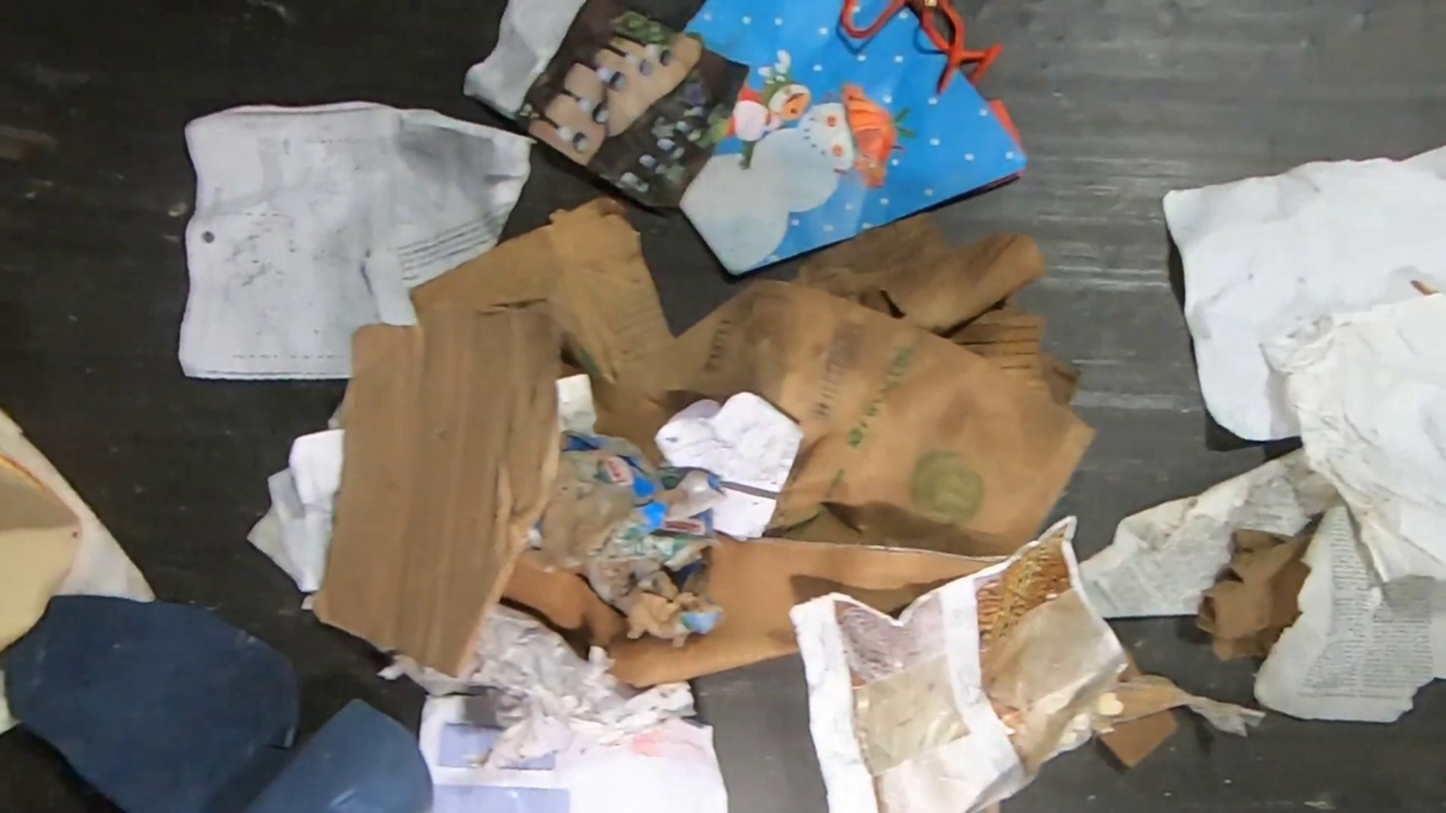cardboard: (410, 196, 1099, 689), (680, 0, 1029, 277), (0, 594, 432, 813), (315, 311, 566, 677), (791, 215, 1084, 408), (1195, 525, 1315, 663), (0, 454, 81, 653), (1097, 710, 1181, 770), (1117, 660, 1146, 680)
plastic: (789, 513, 1266, 813)
